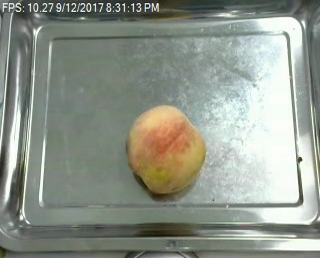Peach: (125, 104, 205, 193)
